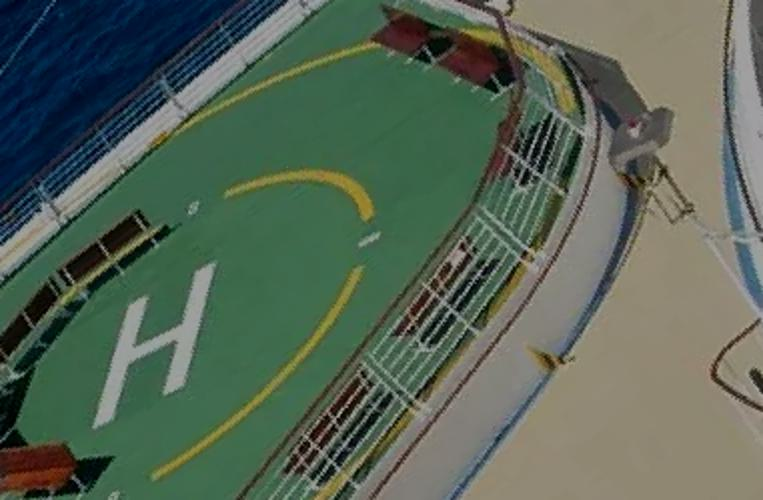Apron: (5, 155, 387, 489)
